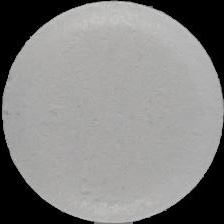42799-806: (0, 0, 224, 224)
